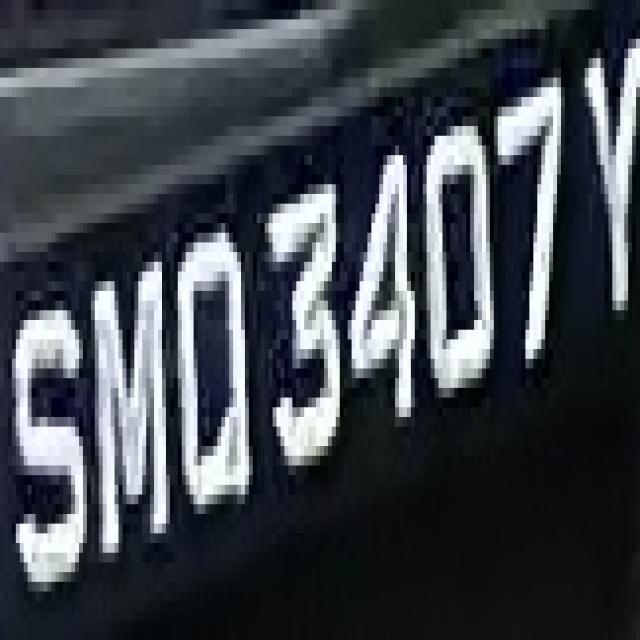0: (407, 87, 498, 485)
3: (249, 165, 351, 514)
4: (336, 107, 426, 466)
7: (482, 58, 569, 398)
M: (87, 252, 182, 563)
Q: (162, 223, 269, 524)
S: (0, 262, 95, 620)
Y: (557, 49, 640, 378)
